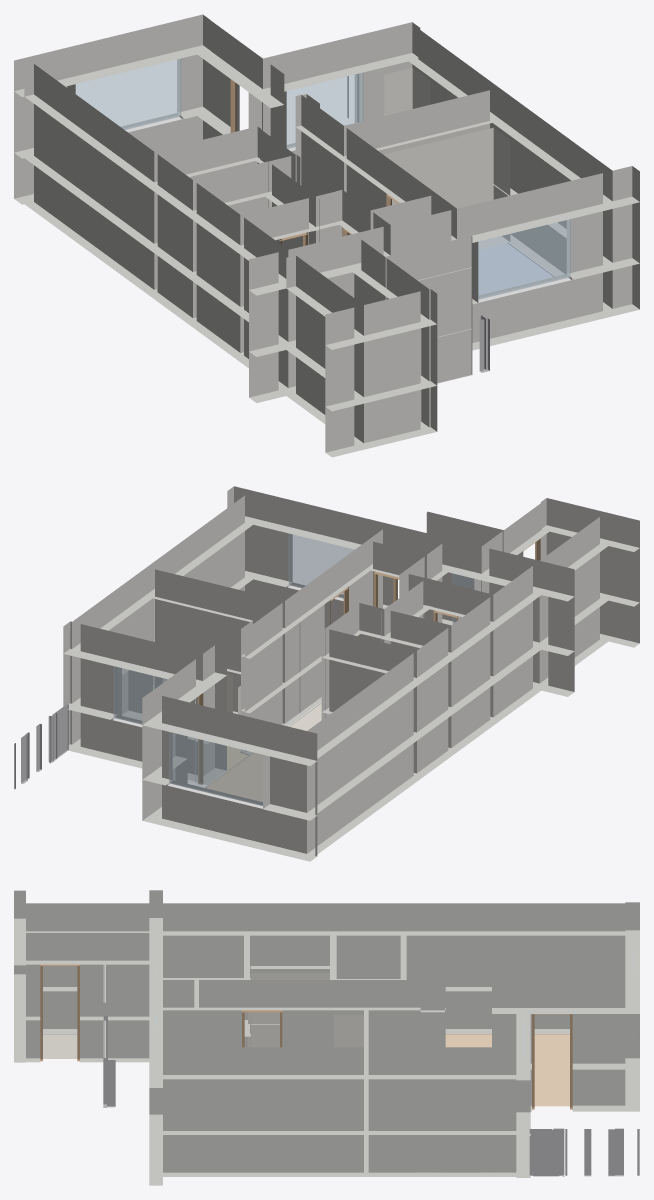
The picture shows the model from 3 angles, top to bottom: view 1: azimuth 30°, elevation 25°; view 2: azimuth 150°, elevation 25°; view 3: azimuth 270°, elevation 25°; orthographic projection. The views are drawn at different scales.
Visible parts, largest first — view 1: walls, furniture_1_closet, window_2, window_4, window_0, floor_4_Bed_Room, furniture_0_closet, railings; view 2: walls, window_4, window_2, window_0, railings, floor_0_Living_Room, furniture_4_appliance; view 3: walls, railings, floor_0_Living_Room, furniture_2_closet, furniture_1_closet, floor_8_Storage, door_10, door_3.
Boxes of the visible parts, x1,y1,x2,y2 form: walls: (14,14,639,457); furniture_1_closet: (345,127,510,249); window_2: (478,216,570,299); window_4: (75,58,181,129); window_0: (286,70,363,148); floor_4_Bed_Room: (478,243,554,295); furniture_0_closet: (384,68,430,115); railings: (347,74,489,372); walls: (63,486,639,861); window_4: (169,728,266,805); window_2: (288,530,356,597); window_0: (113,666,167,724); railings: (14,704,68,789); floor_0_Living_Room: (205,752,262,801); furniture_4_appliance: (122,670,152,720); walls: (14,890,639,1185); railings: (103,1016,639,1176); floor_0_Living_Room: (445,1033,569,1106); furniture_2_closet: (248,973,329,1047); furniture_1_closet: (334,1014,363,1047); floor_8_Storage: (43,1033,77,1058); door_10: (40,964,79,1061); door_3: (532,1014,572,1109).
Bounding box in the file's own units: 7.84 × 2.72 × 12.2.
